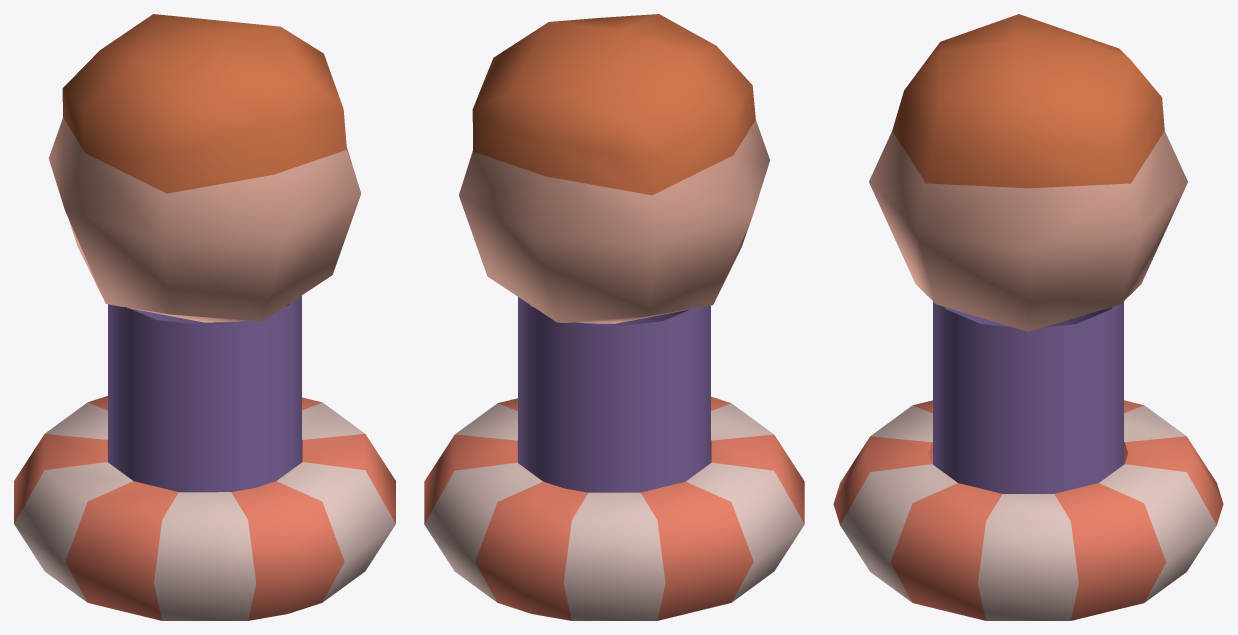
The model's file is char_1.fbx.
The picture shows the model from 3 angles, left to right: view 1: azimuth 30°, elevation 25°; view 2: azimuth 150°, elevation 25°; view 3: azimuth 270°, elevation 25°; orthographic projection.
Visible parts, largest first — view 1: char_1; view 2: char_1; view 3: char_1.
Part boxes in pixels (x1,y1,x2,y2): char_1: (14, 14, 395, 620); char_1: (424, 14, 804, 620); char_1: (833, 14, 1223, 620).
Size of the model in its own units: 0.1358 by 0.2039 by 0.1406.
